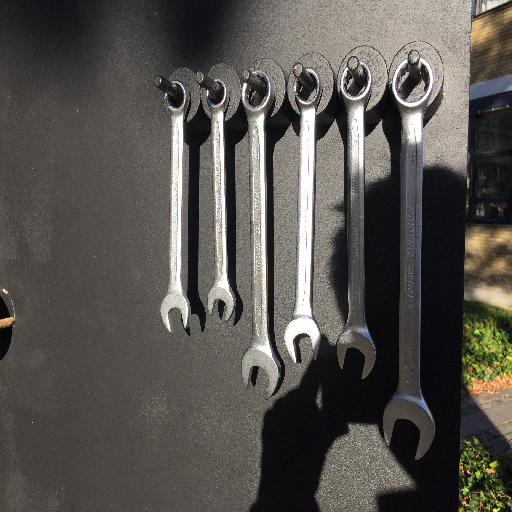bottom: (380, 391, 437, 463), (335, 323, 377, 383), (239, 342, 284, 397), (281, 315, 323, 365), (158, 291, 191, 334), (205, 281, 237, 325)
top: (390, 57, 436, 115), (239, 68, 274, 120), (338, 60, 374, 107), (292, 66, 323, 112), (162, 79, 191, 117), (203, 77, 231, 114)
